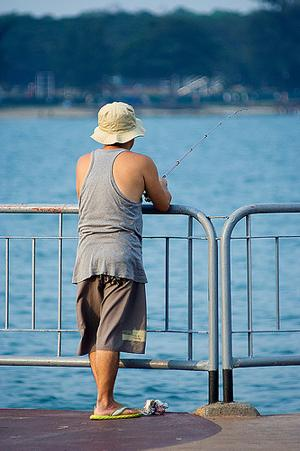person: (73, 101, 173, 417)
